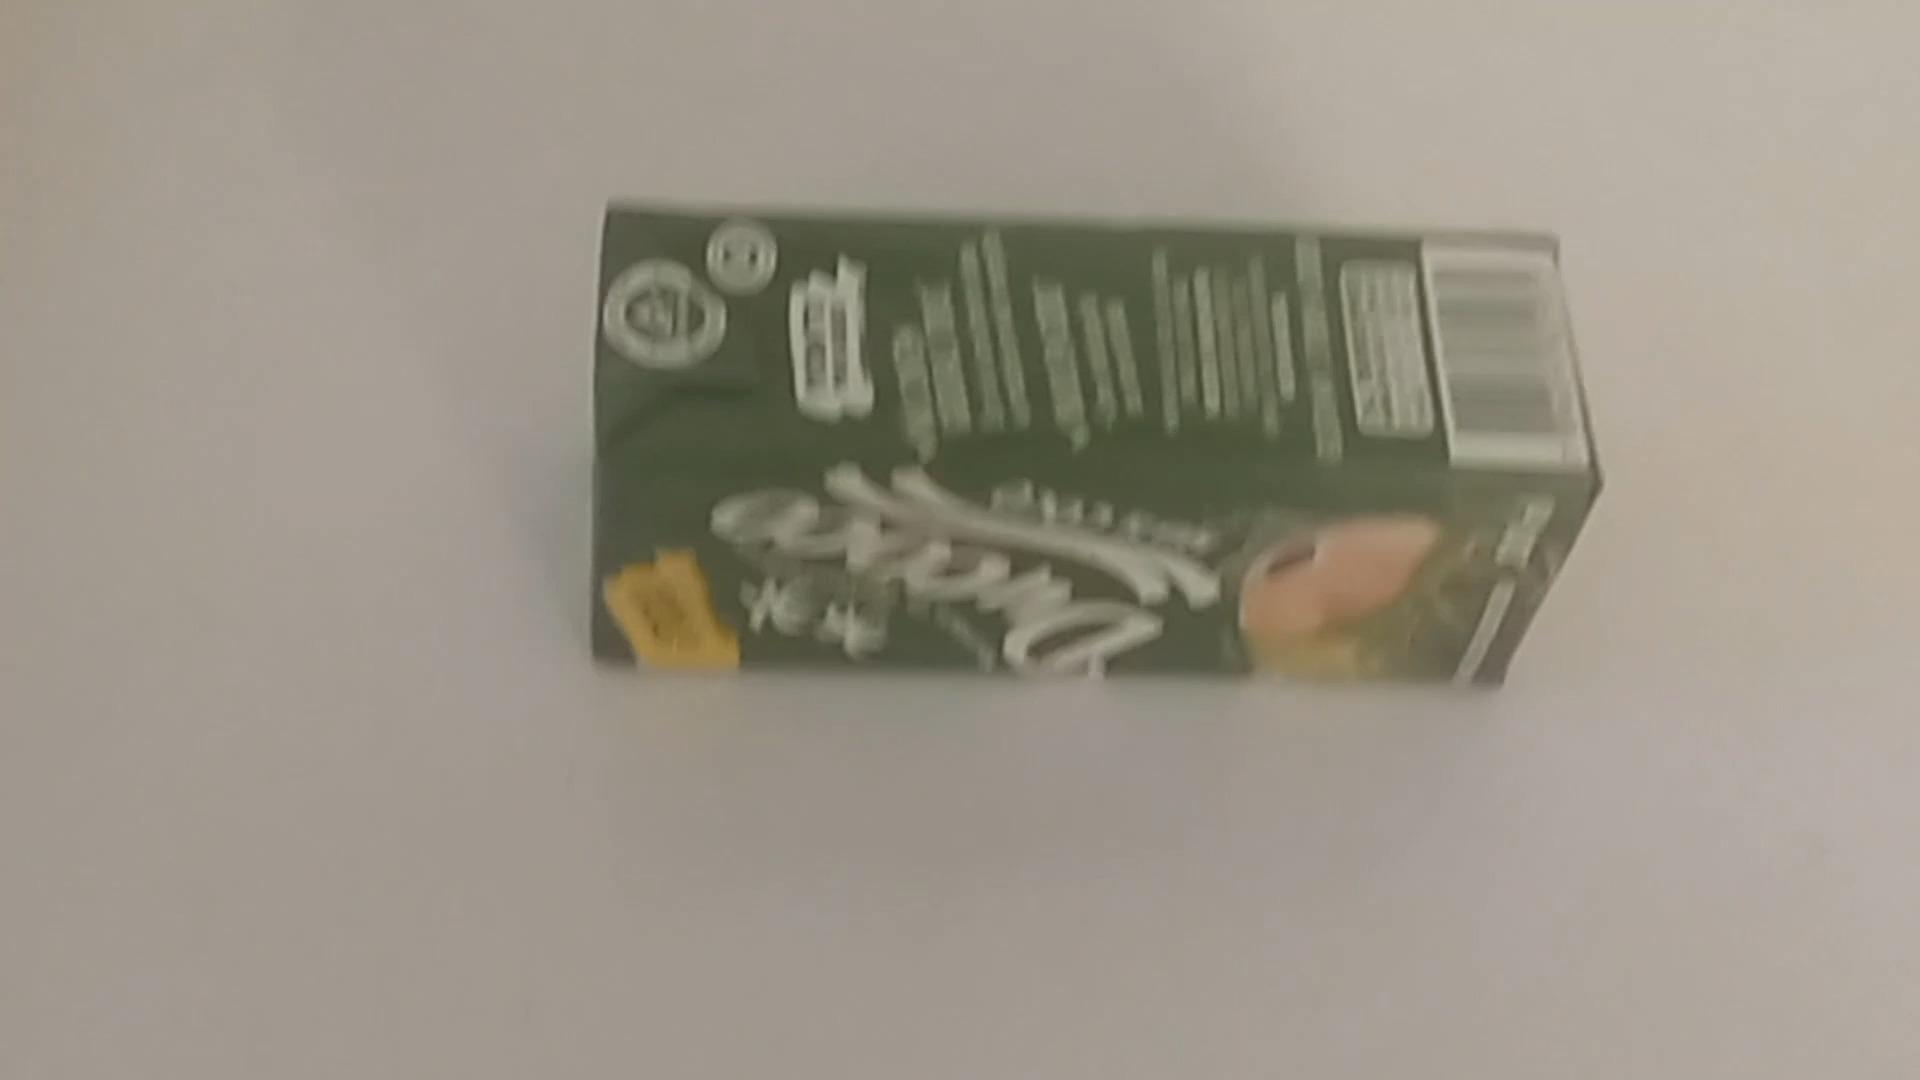coco: (560, 198, 1607, 698)
